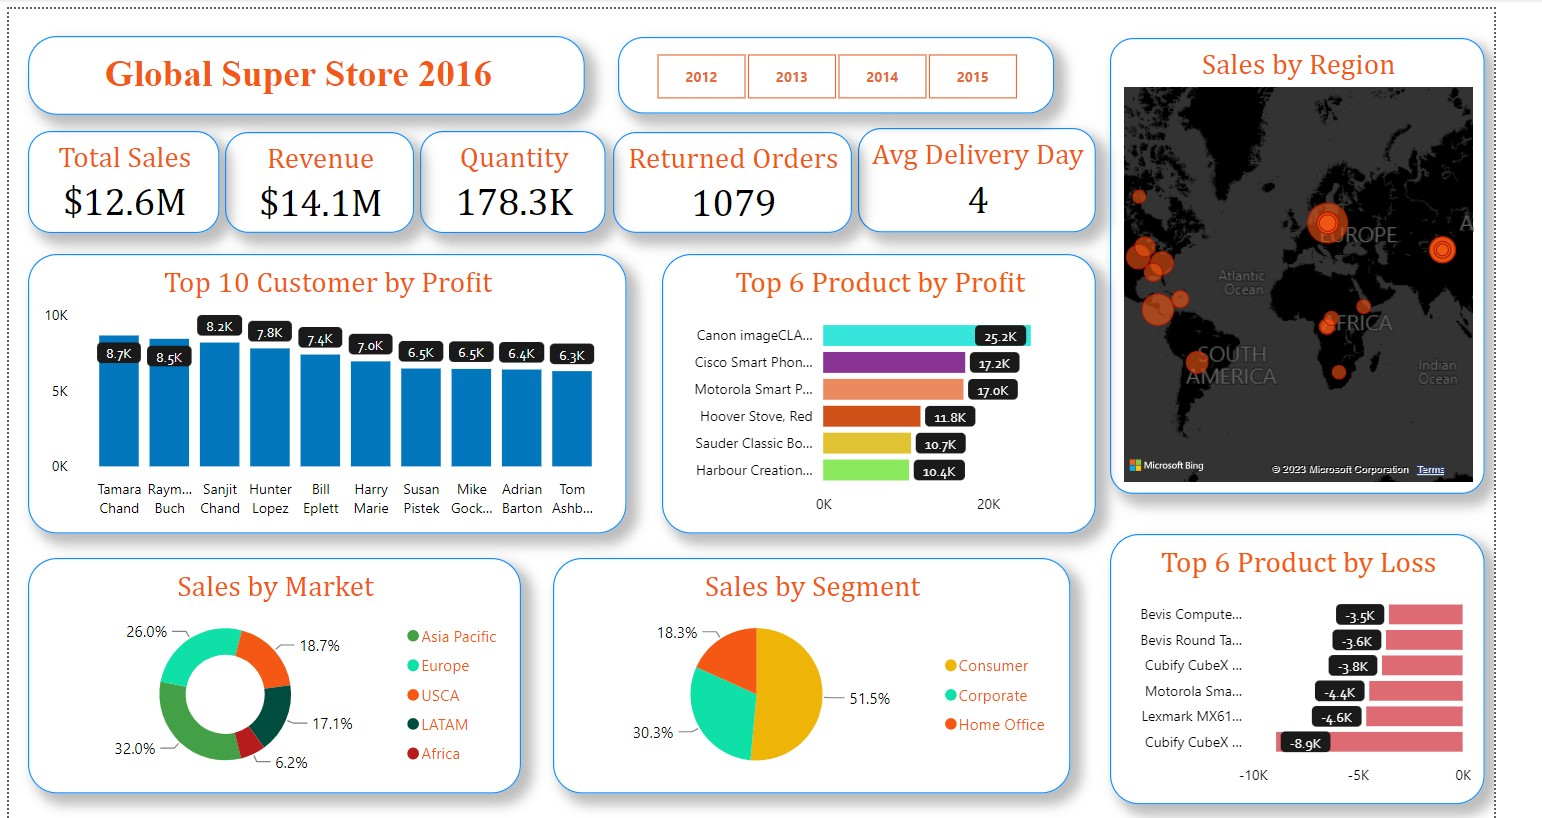

What the dashboard file says about the page in this screenshot:
{"tool":"powerbi","page":{"name":"Global Super Store 2016  ","canvas":[1280,720],"ordinal":0},"visuals":[{"type":"card","title":"Total Sales","fields":{"Values":["Sum(Orders.Sales)"]},"box":[15.8,105.9,165.2,92.7],"z":0},{"type":"card","title":"Revenue","fields":{"Values":["Orders.Revenue by adding"]},"box":[196.1,106.8,163.1,92.2],"z":1000},{"type":"card","title":"Quantity","fields":{"Values":["Sum(Orders.Quantity)"]},"box":[378.4,105.7,165.4,93.4],"z":2000},{"type":"card","title":"Avg Delivery Day","fields":{"Values":["Avg(Orders.Dilivery Day)"]},"box":[753,106.8,147.4,93.4],"z":3000},{"type":"map","title":"Sales by Region","fields":{"Category":["Orders.Region"],"Size":["Sum(Orders.Sales)"]},"box":[921.4,24.8,351,393.8],"z":4000},{"type":"card","title":"Returned Orders","fields":{"Values":["Sum(Returns.Returned Orders)"]},"box":[560.6,106.8,173.2,93.4],"z":5000},{"type":"slicer","fields":{"Values":["Orders.Order Date.Variation.Date Hierarchy.Year"]},"box":[524.6,24.4,375.8,66.4],"z":6000},{"type":"pieChart","title":"Sales by Segment","fields":{"Category":["Orders.Segment"],"Y":["Sum(Orders.Sales)"]},"box":[15.7,219.5,445.5,202.5],"z":7000},{"type":"donutChart","title":"Sales by Market","fields":{"Y":["Sum(Orders.Sales)"],"Category":["Orders.Market"]},"box":[474.7,216.1,425.2,202.5],"z":8000},{"type":"columnChart","title":"Top 10 Customer by Profit","fields":{"Category":["Orders.Customer Name"],"Y":["Sum(Orders.Profit)"]},"box":[14.6,443.4,515.2,240.8],"z":9000},{"type":"barChart","title":"Top 6 Product by Profit ","fields":{"Category":["Orders.Product Name"],"Y":["Sum(Orders.Profit)"]},"box":[539.8,443.8,359.9,241.4],"z":10000},{"type":"barChart","title":"Top 6 Product by Loss","fields":{"Category":["Orders.Product Name"],"Y":["Sum(Orders.Profit)"]},"box":[921.4,442.2,351,243],"z":11000},{"type":"textbox","box":[16.1,23.3,480.4,67.5],"z":12000}]}

Visuals, with their boxes on the page's 1280x720 design canvas (x1, y1, x2, y2). These are canvas units, not pixel positions in the 1542x818 screenshot, which may show the page scaled, cropped or inside an application window:
"Total Sales" card: box(16, 106, 181, 199)
"Revenue" card: box(196, 107, 359, 199)
"Quantity" card: box(378, 106, 544, 199)
"Avg Delivery Day" card: box(753, 107, 900, 200)
"Sales by Region" map: box(921, 25, 1272, 419)
"Returned Orders" card: box(561, 107, 734, 200)
slicer - Orders.Order Date.Variation.Date Hierarchy.Year: box(525, 24, 900, 91)
"Sales by Segment" pieChart: box(16, 220, 461, 422)
"Sales by Market" donutChart: box(475, 216, 900, 419)
"Top 10 Customer by Profit" columnChart: box(15, 443, 530, 684)
"Top 6 Product by Profit " barChart: box(540, 444, 900, 685)
"Top 6 Product by Loss" barChart: box(921, 442, 1272, 685)
textbox: box(16, 23, 496, 91)
